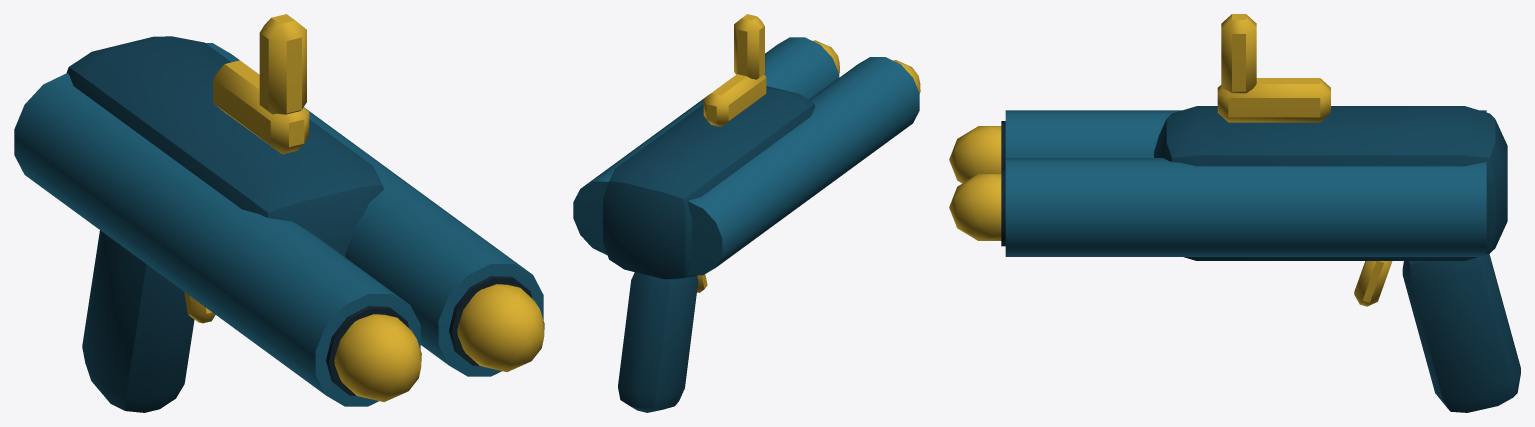
The model's file is w_n_torpedo.glb.
The picture shows the model from 3 angles, left to right: view 1: azimuth 30°, elevation 25°; view 2: azimuth 150°, elevation 25°; view 3: azimuth 270°, elevation 25°; orthographic projection. The views are drawn at different scales.
Visible parts, largest first — view 1: body; view 2: body; view 3: body.
Part boxes in pixels (x1,y1,x2,y2): body: (14, 14, 544, 412); body: (573, 14, 920, 412); body: (949, 14, 1520, 412).
Bounding box in the file's own units: 0.2817 × 0.5809 × 0.7682.
